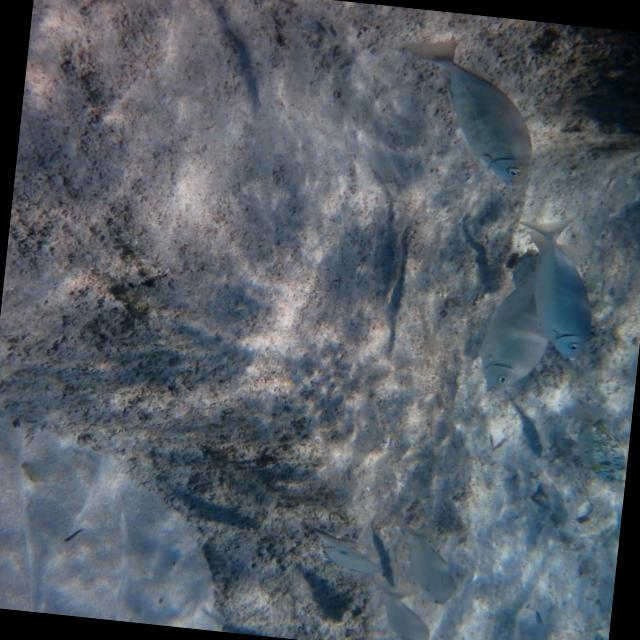Sokar Baligi: (379, 28, 557, 198), (504, 212, 618, 385)
